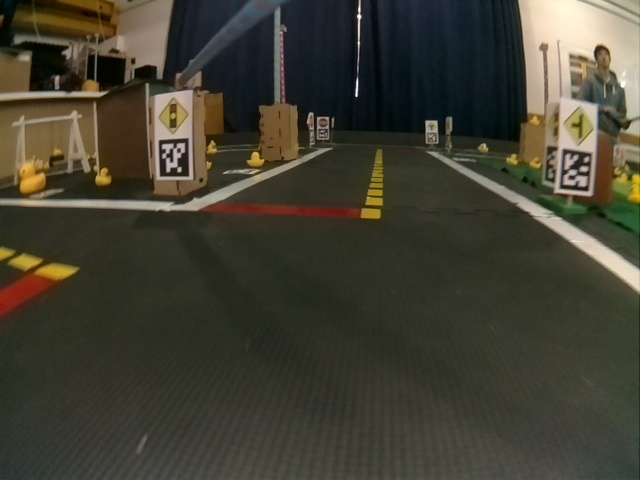Duckie: (21, 165, 45, 191), (95, 168, 112, 183), (247, 152, 264, 165), (506, 154, 515, 164), (478, 143, 488, 152), (208, 144, 217, 152), (530, 116, 538, 125), (534, 160, 540, 168)
Intersection sign: (559, 98, 597, 142), (427, 121, 437, 130)
QR code: (561, 148, 592, 195), (157, 137, 191, 178), (426, 132, 438, 143), (319, 130, 329, 139)
Signal sign: (158, 95, 189, 133), (546, 107, 558, 140)
Stop sign: (317, 117, 327, 127)
